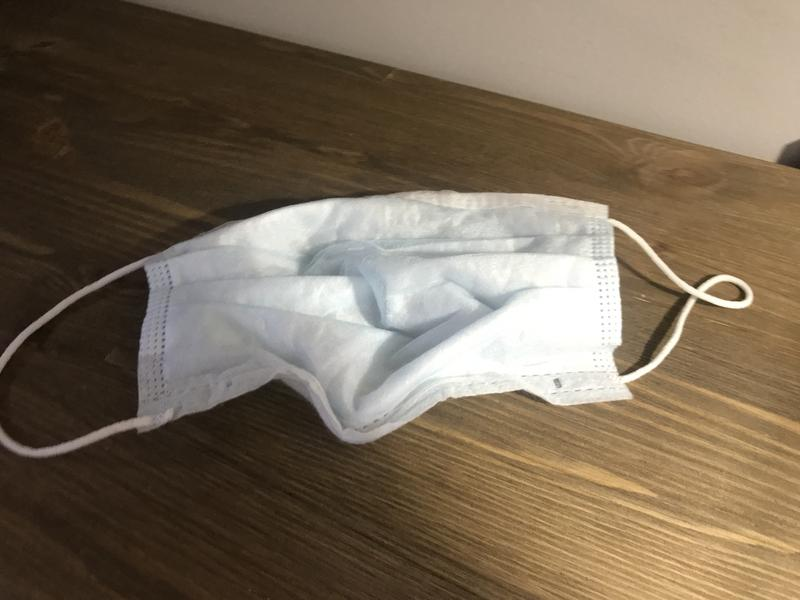medical_mask: (1, 190, 758, 459)
